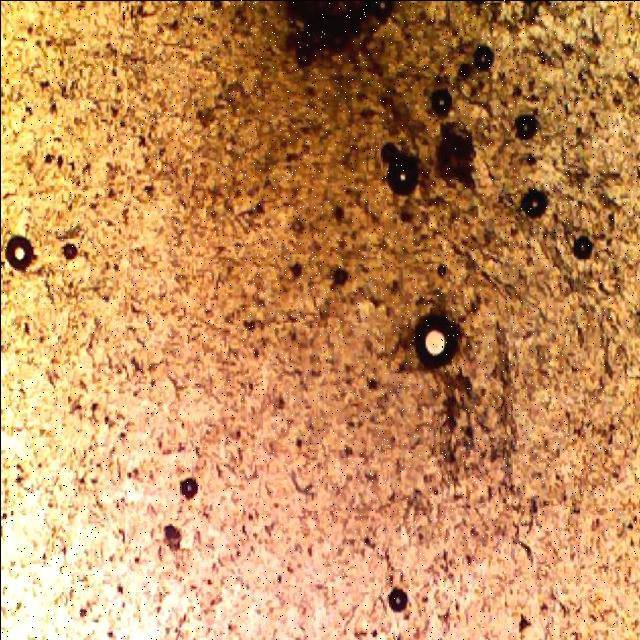microbeads: (410, 312, 458, 368), (382, 144, 420, 198), (0, 231, 36, 270), (522, 184, 548, 216), (514, 114, 536, 140)
